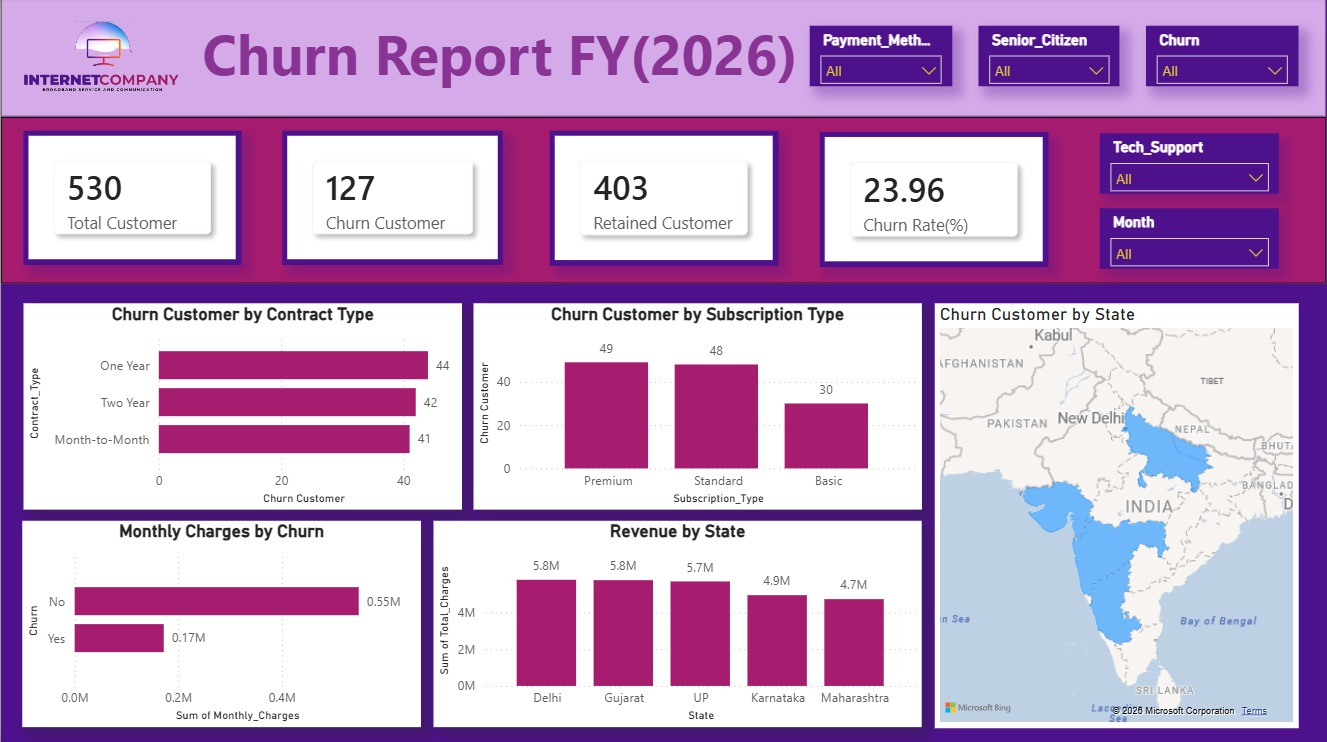

Layout of this report page (visuals, bound fields, positions):
{"tool":"powerbi","page":{"name":"Page 1","canvas":[1280,720],"ordinal":0},"visuals":[{"type":"shape","box":[0,0,1279.7,115.4],"z":0},{"type":"image","box":[0,0,200.5,115.4],"z":1000},{"type":"textbox","box":[189,13,591.5,88],"z":2000},{"type":"shape","box":[0,115.9,1280,160.8],"z":3000},{"type":"cardVisual","title":"Total Customer","fields":{"Data":["CountNonNull(customer_churn_db customer_data.Customer_ID)"]},"box":[21.6,129.4,210.6,129.4],"z":4000},{"type":"cardVisual","title":"Total Customer","fields":{"Data":["customer_churn_db customer_data.Churn Customer"]},"box":[271.5,129.4,213.2,129.4],"z":5000},{"type":"cardVisual","title":"Total Customer","fields":{"Data":["customer_churn_db customer_data.Retained Customer"]},"box":[529.1,129.4,220.8,130.7],"z":6000},{"type":"cardVisual","title":"Total Customer","fields":{"Data":["customer_churn_db customer_data.Churn Rate(%)"]},"box":[790.5,130.7,220.8,130.7],"z":7000},{"type":"slicer","fields":{"Values":["customer_churn_db customer_data.Senior_Citizen"]},"box":[943,27.8,136,58.7],"z":8000},{"type":"slicer","fields":{"Values":["customer_churn_db customer_data.Payment_Method"]},"box":[780.7,27.8,137.6,58.7],"z":9000},{"type":"slicer","fields":{"Values":["customer_churn_db customer_data.Churn"]},"box":[1105.3,27.8,146.9,58.7],"z":10000},{"type":"slicer","fields":{"Values":["customer_churn_db customer_data.Tech_Support"]},"box":[1060.5,131.4,173.1,58.7],"z":11000},{"type":"slicer","fields":{"Values":["customer_churn_db customer_data.Last_Interaction_Date.Variation.Date Hierarchy.Month"]},"box":[1060.5,204.1,173.1,58.7],"z":12000},{"type":"clusteredBarChart","title":"Churn Customer by Contract Type","fields":{"Category":["customer_churn_db customer_data.Contract_Type"],"Y":["customer_churn_db customer_data.Churn Customer"]},"box":[21.6,295.3,423.6,199.4],"z":13000},{"type":"columnChart","title":"Churn Customer by Subscription Type","fields":{"Category":["customer_churn_db customer_data.Subscription_Type"],"Y":["customer_churn_db customer_data.Churn Customer"]},"box":[456,295.3,432.9,199.4],"z":14000},{"type":"clusteredBarChart","title":"Monthly Charges by Churn","fields":{"Y":["Sum(customer_churn_db customer_data.Monthly_Charges)"],"Category":["customer_churn_db customer_data.Churn"]},"box":[20.1,505.5,384.9,199.4],"z":15000},{"type":"columnChart","title":"Revenue by State","fields":{"Category":["customer_churn_db customer_data.State"],"Y":["Sum(customer_churn_db customer_data.Total_Charges)"]},"box":[417.4,505.5,471.5,199.4],"z":16000},{"type":"filledMap","fields":{"Category":["customer_churn_db customer_data.State"]},"box":[901.3,295.3,350.9,409.7],"z":17000}]}

Visuals, with their boxes in screenshot pixels (x1, y1, x2, y2), scaled from the page's 1280x720 canvas onto the 1327x742 screenshot:
shape: [left=0, top=0, right=1326, bottom=119]
image: [left=0, top=0, right=208, bottom=119]
textbox: [left=196, top=13, right=809, bottom=104]
shape: [left=0, top=119, right=1326, bottom=285]
"Total Customer" cardVisual: [left=22, top=133, right=241, bottom=267]
"Total Customer" cardVisual: [left=281, top=133, right=502, bottom=267]
"Total Customer" cardVisual: [left=549, top=133, right=777, bottom=268]
"Total Customer" cardVisual: [left=820, top=135, right=1048, bottom=269]
slicer - customer_churn_db customer_data.Senior_Citizen: [left=978, top=29, right=1119, bottom=89]
slicer - customer_churn_db customer_data.Payment_Method: [left=809, top=29, right=952, bottom=89]
slicer - customer_churn_db customer_data.Churn: [left=1146, top=29, right=1298, bottom=89]
slicer - customer_churn_db customer_data.Tech_Support: [left=1099, top=135, right=1279, bottom=196]
slicer - customer_churn_db customer_data.Last_Interaction_Date.Variation.Date Hierarchy.Month: [left=1099, top=210, right=1279, bottom=271]
"Churn Customer by Contract Type" clusteredBarChart: [left=22, top=304, right=462, bottom=510]
"Churn Customer by Subscription Type" columnChart: [left=473, top=304, right=922, bottom=510]
"Monthly Charges by Churn" clusteredBarChart: [left=21, top=521, right=420, bottom=726]
"Revenue by State" columnChart: [left=433, top=521, right=922, bottom=726]
filledMap - customer_churn_db customer_data.State: [left=934, top=304, right=1298, bottom=727]
